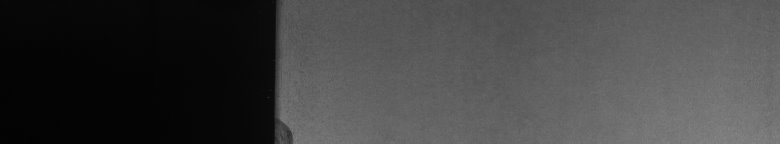hb: (284, 116, 300, 136)
